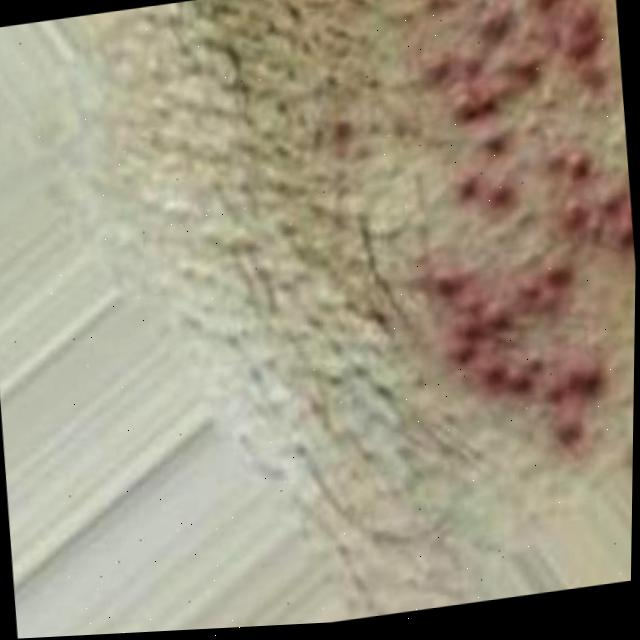Shingles: (381, 0, 640, 480)
